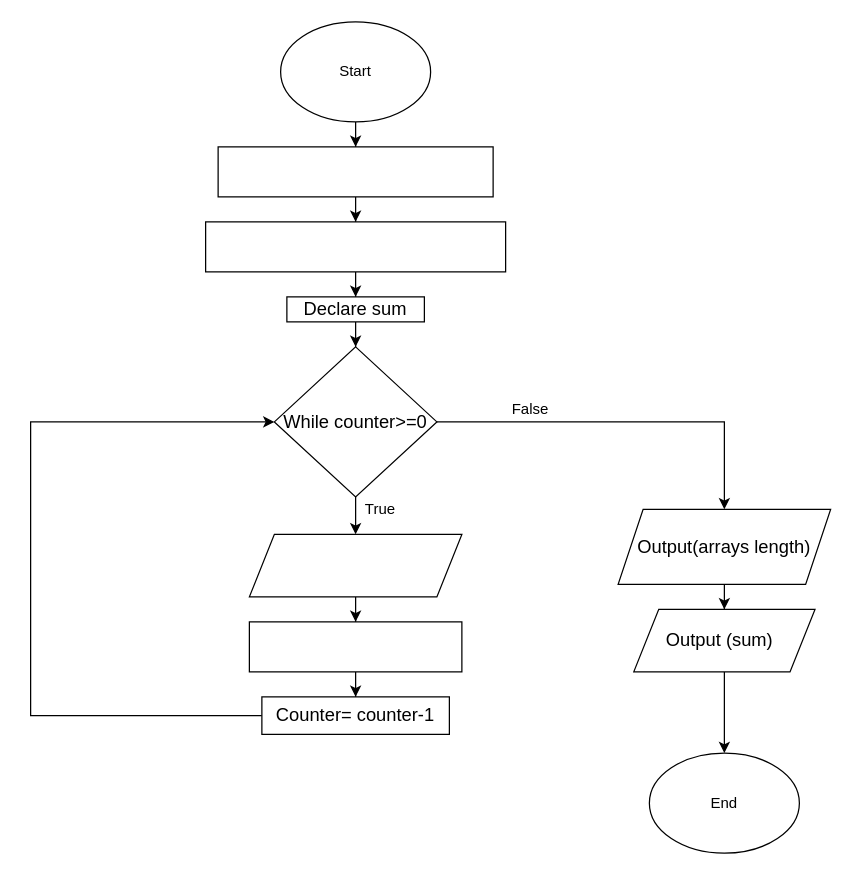
Image size: 853x875. Some labels were removed from this diagram. The centre of each missing label's shape, as x and y in pixels:
"Declare Array int nums = {1,2,3,5,7}" belongs at [355,171].
"Declare int counter=array length-1" belongs at [355,246].
"Output nums[counter]" belongs at [355,565].
"Sum=sum+ nums[counter]" belongs at [355,646].
